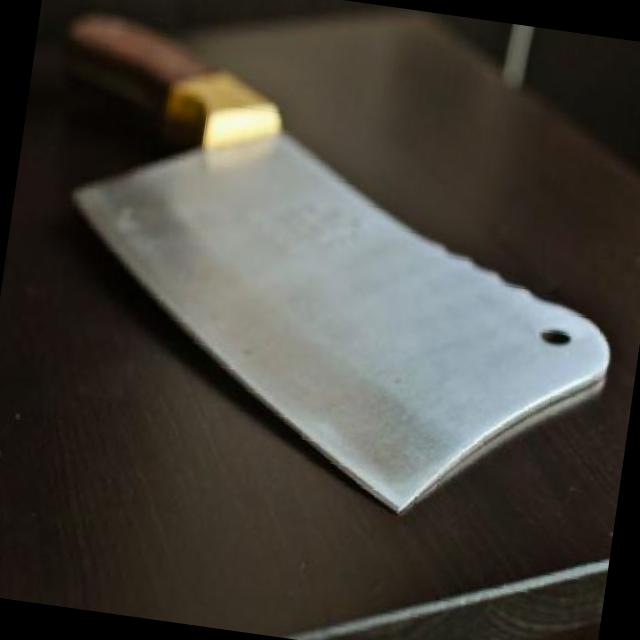knife: (8, 0, 640, 564)
